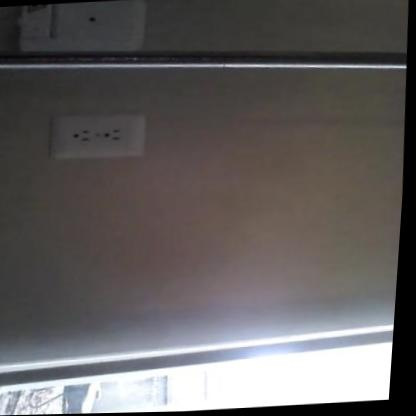OUTLET: (50, 112, 146, 159)
